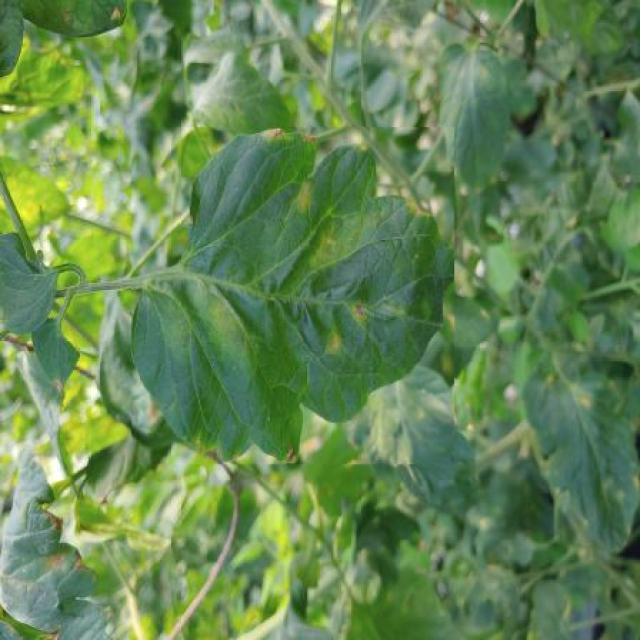Leaf Mold: (132, 128, 455, 465)
